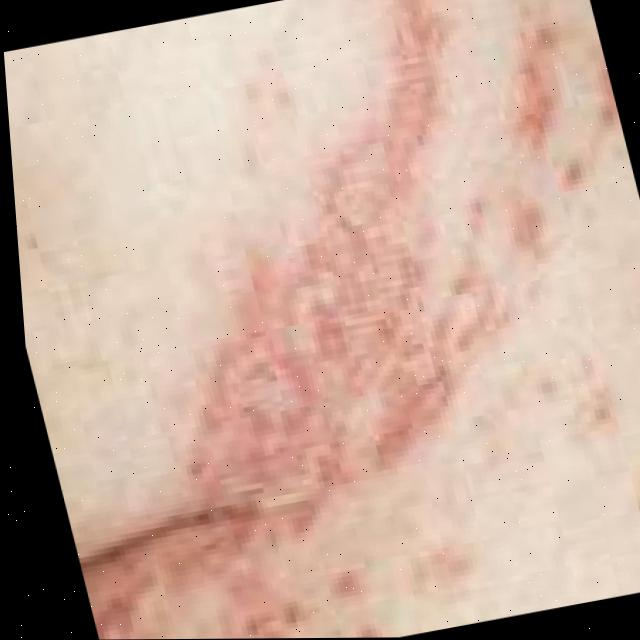Shingles: (1, 11, 640, 640)
